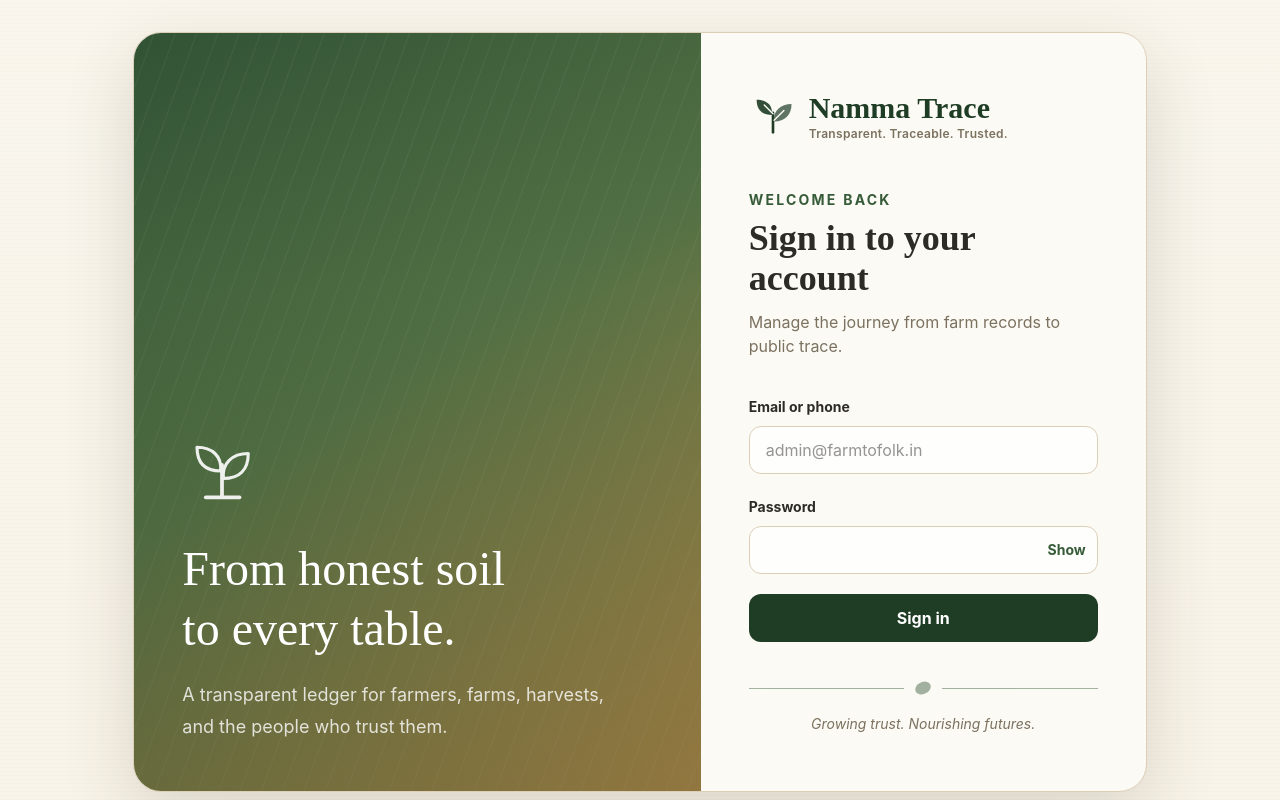
Test: LoginView › shows a readable error when authentication fails
The image size is (1280, 800).
Type "user@farmtofolk.in" into the field labelled "Email or phone" at (923, 450), box [749, 426, 1098, 474]
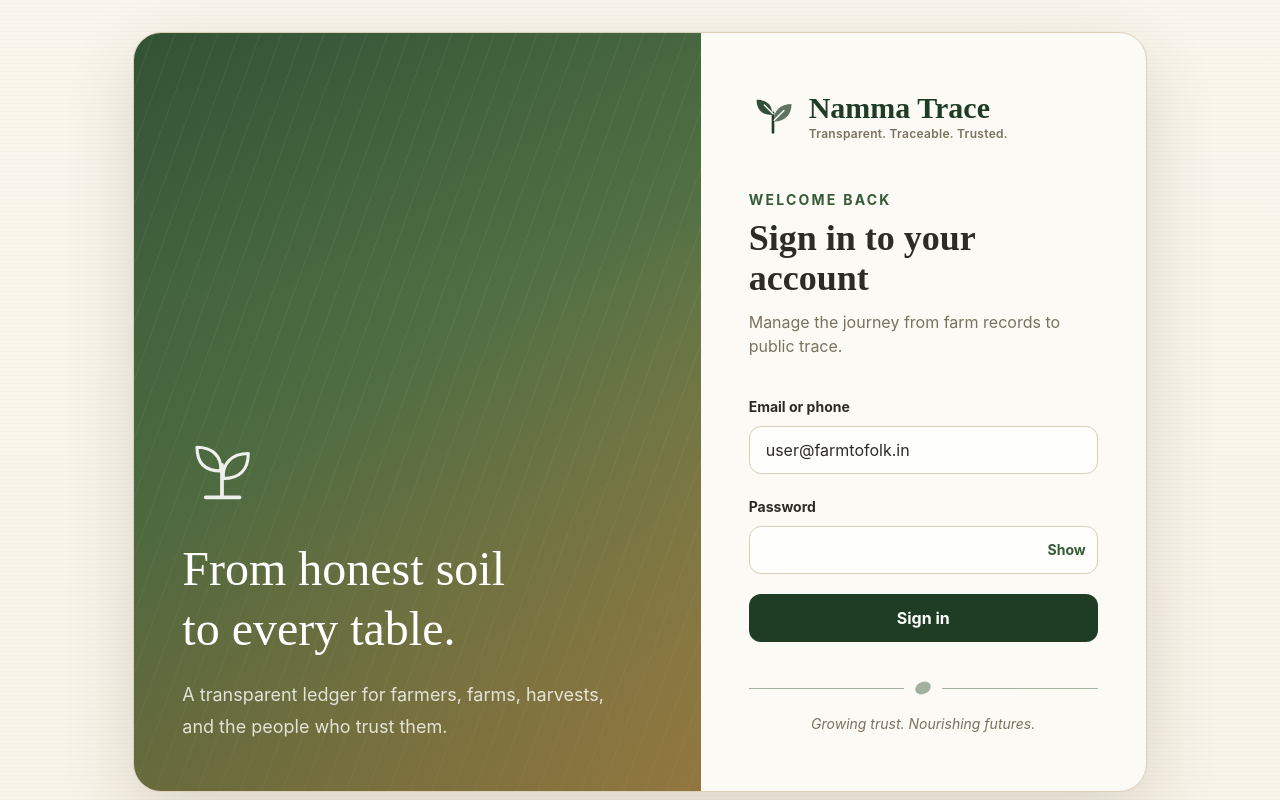
Type "password123" into the password field labelled "Password Show" at (923, 550), box [749, 526, 1098, 574]
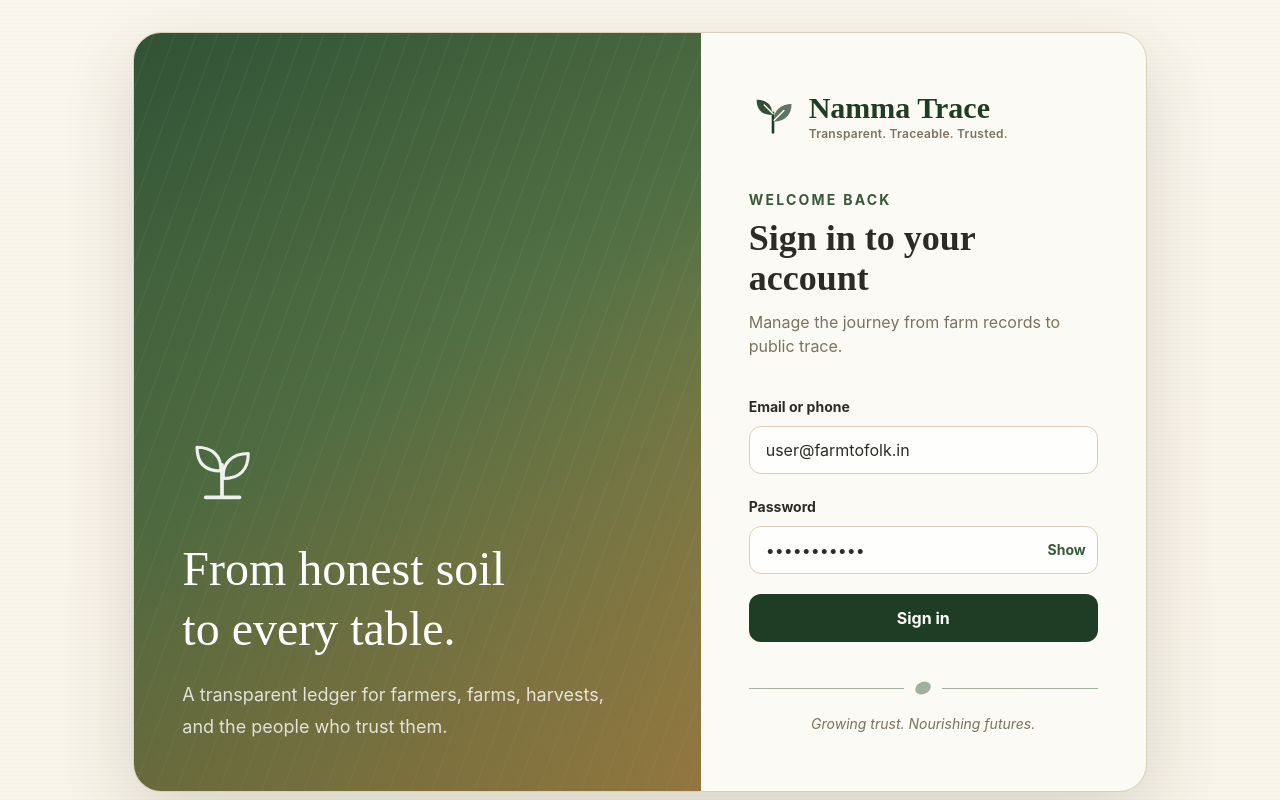
Click the button "Sign in" at (923, 618), box [749, 594, 1098, 642]
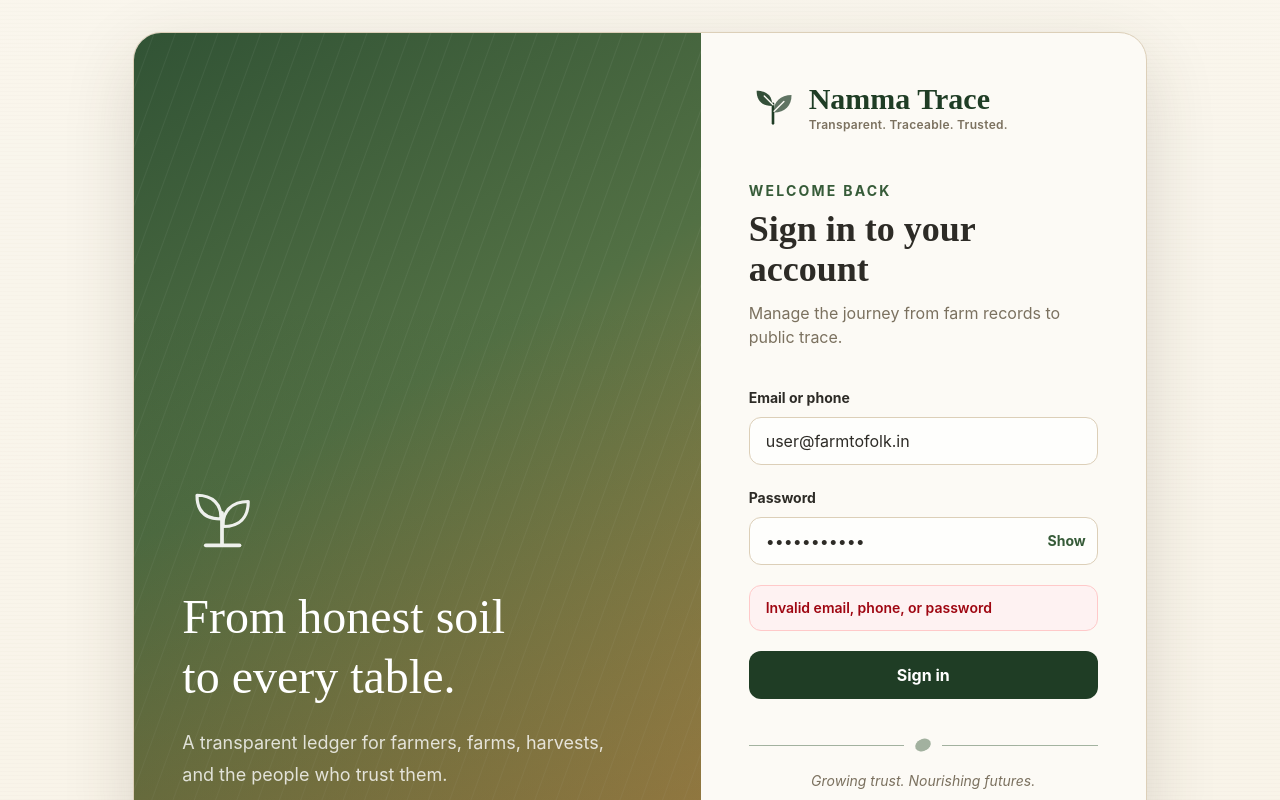
Check: the message reads "Invalid email, phone, or password", box [766, 599, 992, 616]
